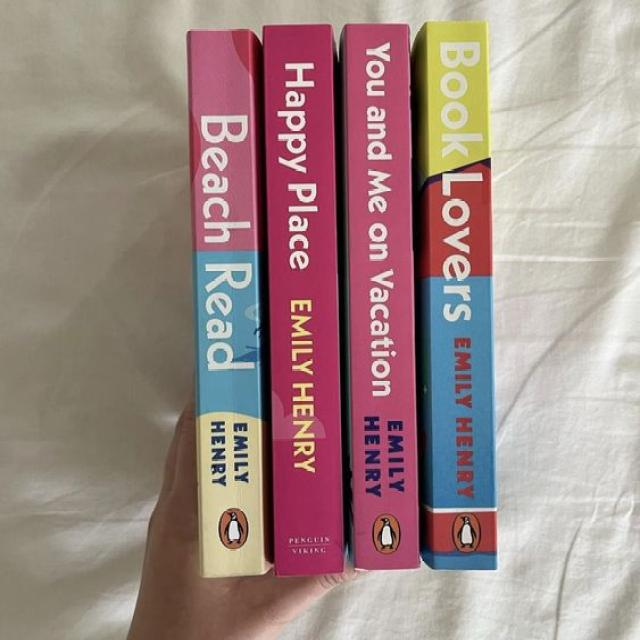book: (413, 22, 494, 569), (189, 30, 267, 577), (264, 26, 341, 576), (341, 23, 418, 568)
